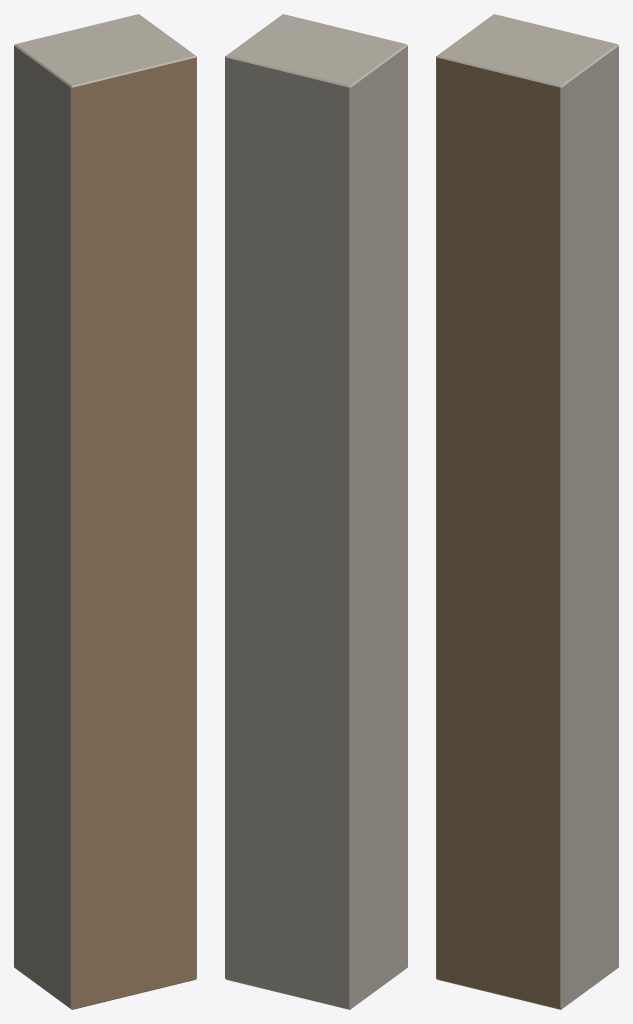
File: arch_wall_ext_w50_h350.glb
3 views of the same model, side by side, from view 1: azimuth 30°, elevation 25°; view 2: azimuth 150°, elevation 25°; view 3: azimuth 330°, elevation 25° (orthographic).
Visible parts, largest first — view 1: Wall; view 2: Wall; view 3: Wall.
Boxes of the visible parts, left/top/right/bottom form: Wall: left=14, top=14, right=196, bottom=1009; Wall: left=225, top=14, right=407, bottom=1009; Wall: left=436, top=14, right=618, bottom=1009.
Size of what is drawn, in the model's own units: 0.5 by 3.5 by 0.4.
